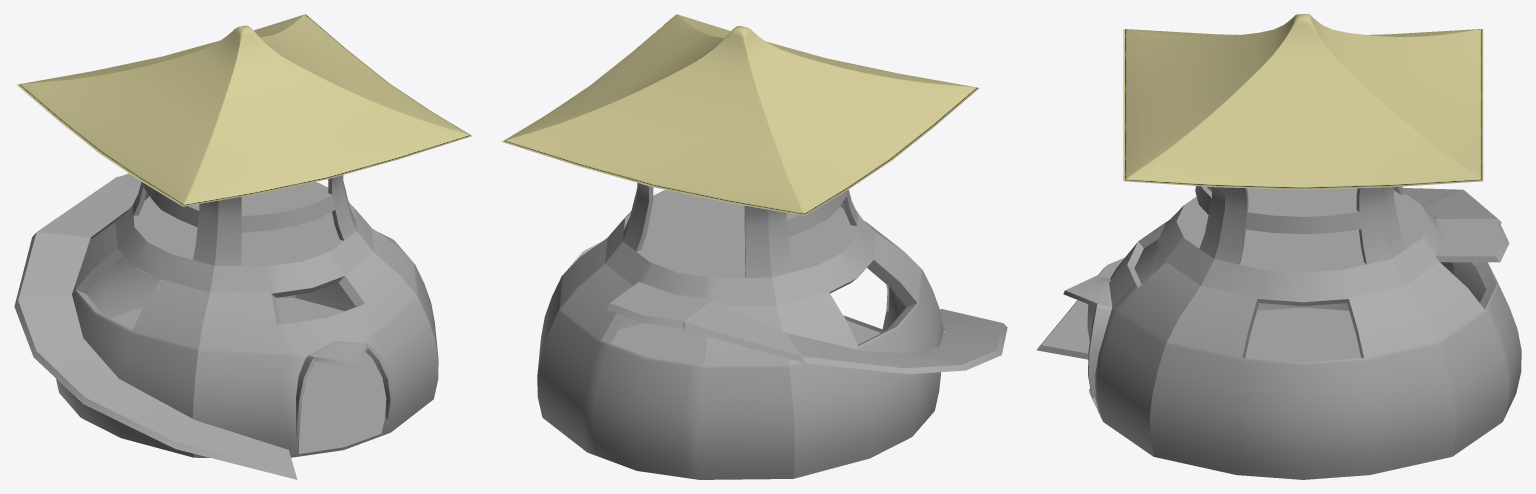
Rendered from Struc_MaintStreetHome_A_v1.fbx.
3 views of the same model, side by side, from view 1: azimuth 30°, elevation 25°; view 2: azimuth 150°, elevation 25°; view 3: azimuth 270°, elevation 25° (orthographic). The views are drawn at different scales.
Parts seen in each view (by area): view 1: Body, Roof; view 2: Body, Roof; view 3: Body, Roof.
Part boxes in pixels (x1,y1,x2,y2): Body: (14,173,438,479); Roof: (16,14,471,206); Body: (537,183,1007,479); Roof: (502,14,979,215); Body: (1036,186,1521,479); Roof: (1123,14,1483,189).
Size of the model in its own units: 25.01 by 21.96 by 25.57.
